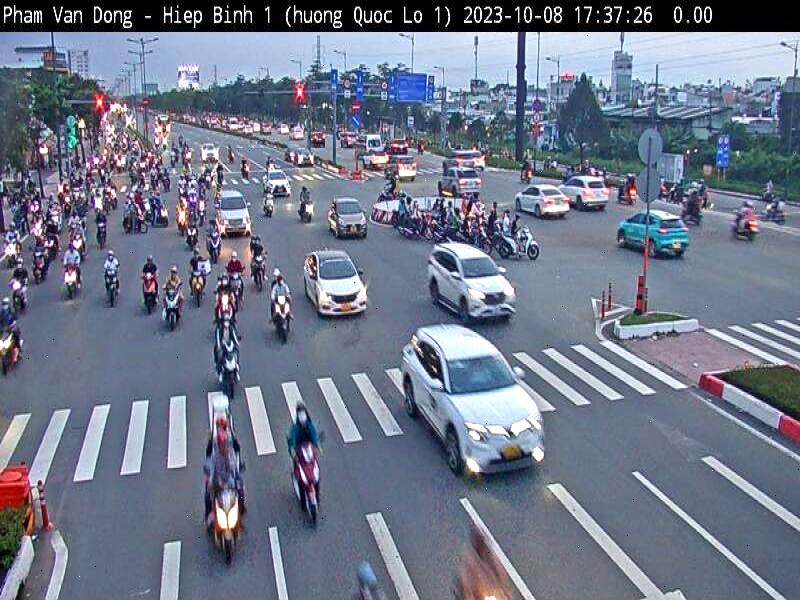car: (397, 325, 547, 478), (426, 241, 516, 325), (303, 249, 369, 317), (618, 212, 692, 260), (517, 186, 571, 221), (560, 176, 611, 211), (327, 198, 370, 238), (436, 164, 480, 198), (219, 206, 253, 238), (382, 153, 416, 180), (264, 167, 288, 195)
motorcycle: (203, 467, 241, 547), (290, 444, 321, 514), (501, 233, 538, 263), (218, 338, 239, 388), (269, 293, 289, 340), (162, 286, 179, 331), (397, 216, 418, 241), (251, 258, 268, 283), (189, 271, 203, 297), (428, 221, 444, 239), (301, 202, 314, 220)
